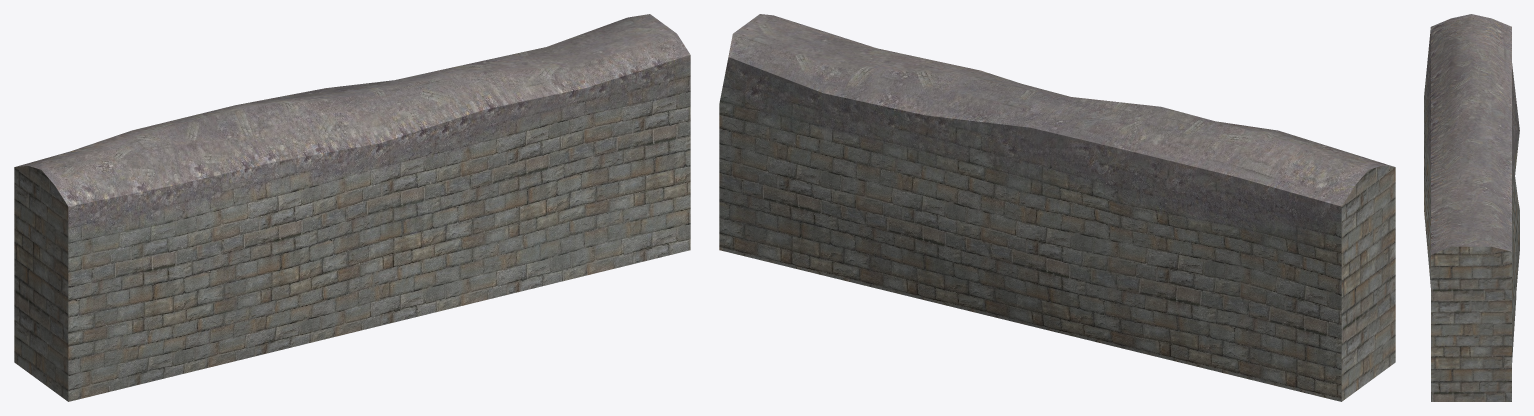
File: old_wall.glb
3 views of the same model, side by side, from view 1: azimuth 30°, elevation 25°; view 2: azimuth 150°, elevation 25°; view 3: azimuth 270°, elevation 25° (orthographic). The views are drawn at different scales.
Visible parts, largest first — view 1: Box002; view 2: Box002; view 3: Box002.
Boxes of the visible parts, bbox=[...] form: Box002: bbox=[14, 14, 690, 401]; Box002: bbox=[719, 14, 1395, 401]; Box002: bbox=[1424, 14, 1519, 401].
Bounding box in the file's own units: 2 × 0.6907 × 0.3548.
1 material, 1 textured.
